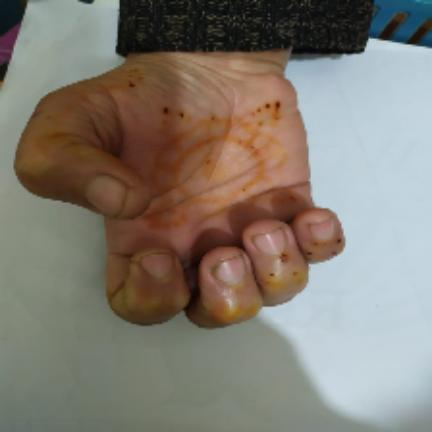Nail: (84, 176, 127, 216), (214, 256, 246, 284), (252, 230, 286, 256), (141, 254, 175, 280), (309, 219, 333, 241)
